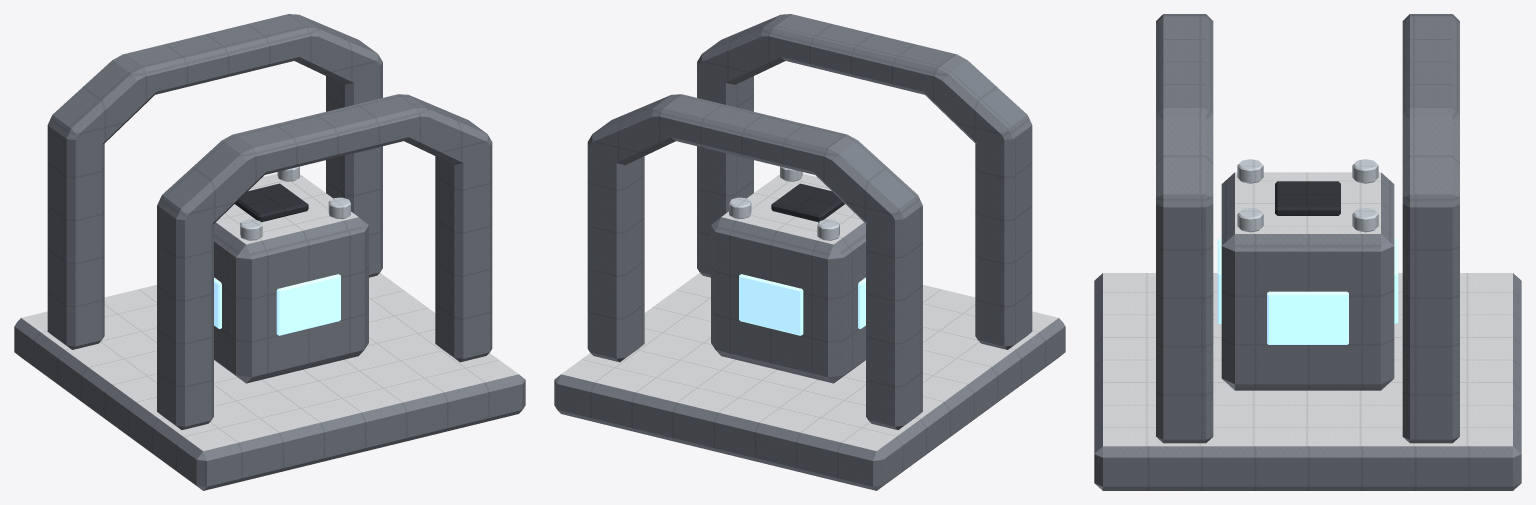
Rendered from R4X_ModuleDurabilityBooster_LOD1.glb.
The picture shows the model from 3 angles, left to right: view 1: azimuth 30°, elevation 25°; view 2: azimuth 150°, elevation 25°; view 3: azimuth 270°, elevation 25°; orthographic projection. The views are drawn at different scales.
Parts seen in each view (by area): view 1: R4X_ModuleDurabilityBooster_LOD1; view 2: R4X_ModuleDurabilityBooster_LOD1; view 3: R4X_ModuleDurabilityBooster_LOD1.
Boxes of the visible parts, x1,y1,x2,y2 form: R4X_ModuleDurabilityBooster_LOD1: (14,14,525,490); R4X_ModuleDurabilityBooster_LOD1: (554,14,1065,490); R4X_ModuleDurabilityBooster_LOD1: (1094,14,1521,490).
Size of the model in its own units: 0.52 by 0.46 by 0.52.
Materials: 5 (4 with a texture image).
